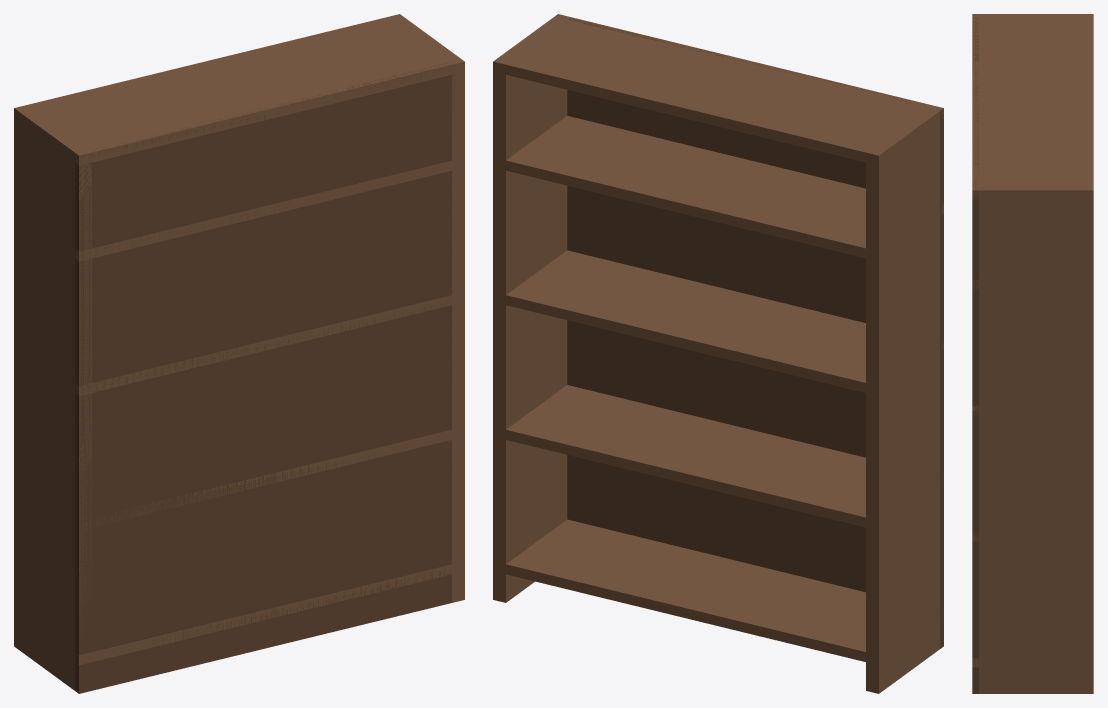
The model's file is furn_shelf.glb.
3 renders of one model, left to right at view 1: azimuth 30°, elevation 25°; view 2: azimuth 150°, elevation 25°; view 3: azimuth 270°, elevation 25°, orthographic. The views are drawn at different scales.
Visible parts, largest first — view 1: furn_shelf; view 2: furn_shelf; view 3: furn_shelf.
Boxes of the visible parts, x1=… form: furn_shelf: x1=14, y1=14, x2=464, y2=693; furn_shelf: x1=493, y1=14, x2=943, y2=693; furn_shelf: x1=972, y1=14, x2=1093, y2=693.
Bounding box in the file's own units: 1.2 × 1.6 × 0.35.
